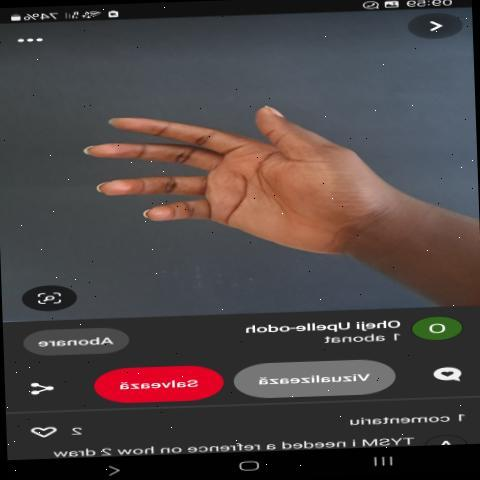Hands: (44, 46, 411, 282)
